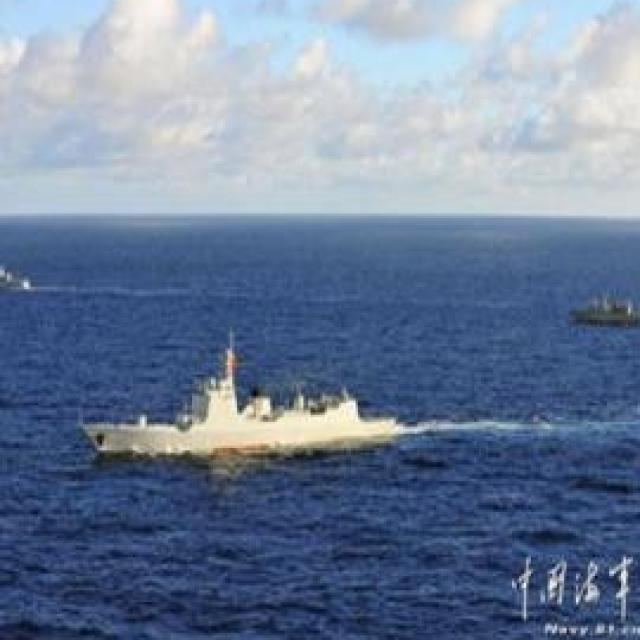navalvessels: (82, 348, 382, 464), (562, 289, 640, 332), (0, 261, 33, 287)
